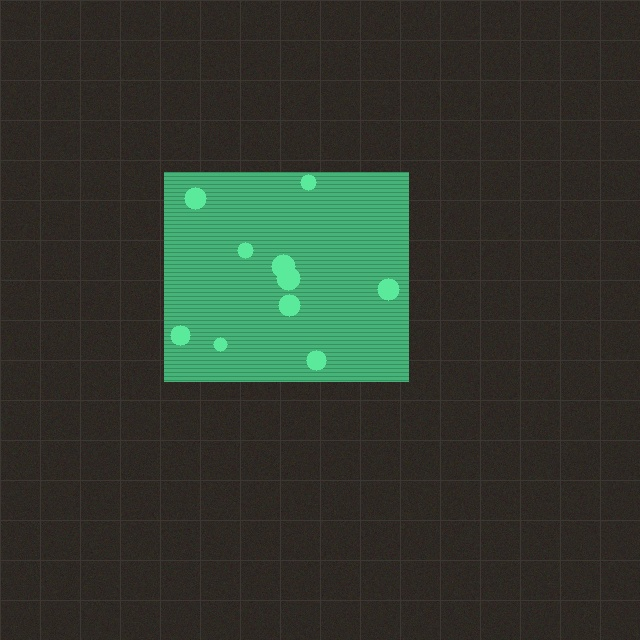over_extrusion: (159, 167, 413, 386)
